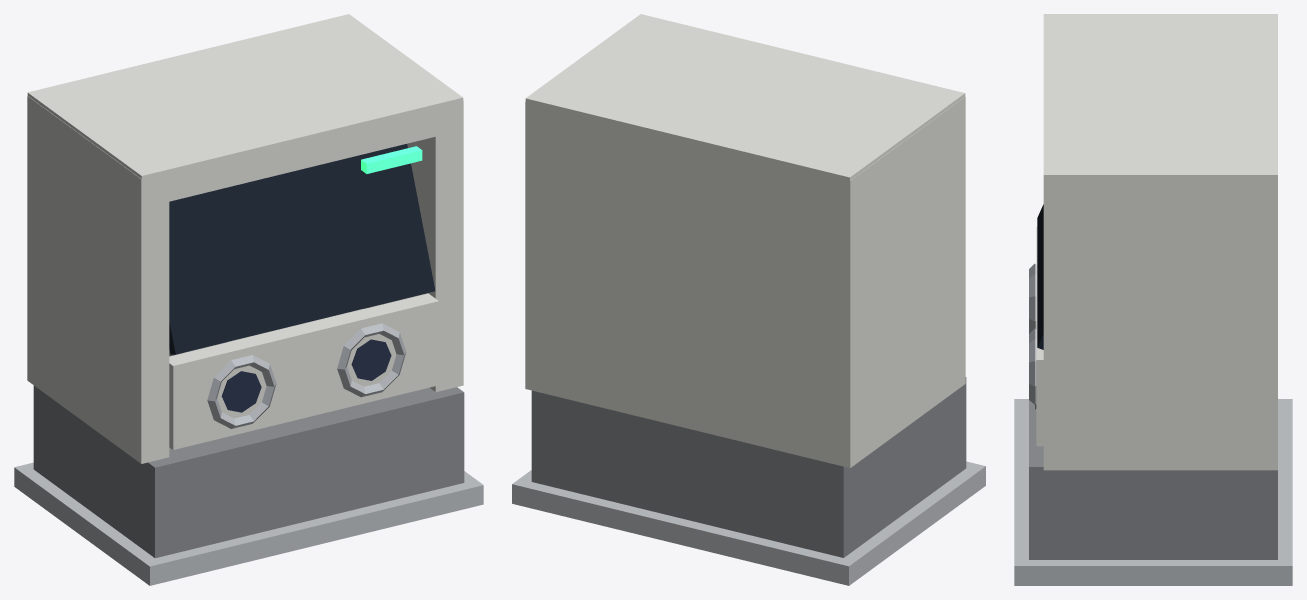
Rendered from cabin-msg-minion.glb.
3 renders of one model, left to right at view 1: azimuth 30°, elevation 25°; view 2: azimuth 150°, elevation 25°; view 3: azimuth 270°, elevation 25°, orthographic. The views are drawn at different scales.
Parts seen in each view (by area): view 1: CabinMsgMinion_Hull, CabinMsgMinion_Titanium, CabinMsgMinion_Visor, CabinMsgMinion_Aluminum, CabinMsgMinion_Steel, CabinMsgMinion_Pack, CabinMsgMinion_LedGreen; view 2: CabinMsgMinion_Hull, CabinMsgMinion_Titanium, CabinMsgMinion_Aluminum; view 3: CabinMsgMinion_Hull, CabinMsgMinion_Titanium, CabinMsgMinion_Aluminum, CabinMsgMinion_Steel, CabinMsgMinion_Visor.
Boxes of the visible parts, box(x1,y1,x2,y2) form: CabinMsgMinion_Hull: box(27, 14, 463, 463); CabinMsgMinion_Titanium: box(33, 342, 464, 558); CabinMsgMinion_Visor: box(169, 144, 435, 354); CabinMsgMinion_Aluminum: box(14, 462, 483, 585); CabinMsgMinion_Steel: box(207, 323, 406, 428); CabinMsgMinion_Pack: box(221, 339, 391, 412); CabinMsgMinion_LedGreen: box(361, 146, 422, 173); CabinMsgMinion_Hull: box(525, 14, 965, 467); CabinMsgMinion_Titanium: box(531, 377, 966, 557); CabinMsgMinion_Aluminum: box(512, 461, 985, 585); CabinMsgMinion_Hull: box(1036, 14, 1277, 470); CabinMsgMinion_Titanium: box(1029, 404, 1277, 559); CabinMsgMinion_Aluminum: box(1014, 399, 1292, 585); CabinMsgMinion_Steel: box(1029, 263, 1036, 409); CabinMsgMinion_Visor: box(1037, 204, 1043, 349).
Size of the model in its own units: 0.54 by 0.615 by 0.38.
